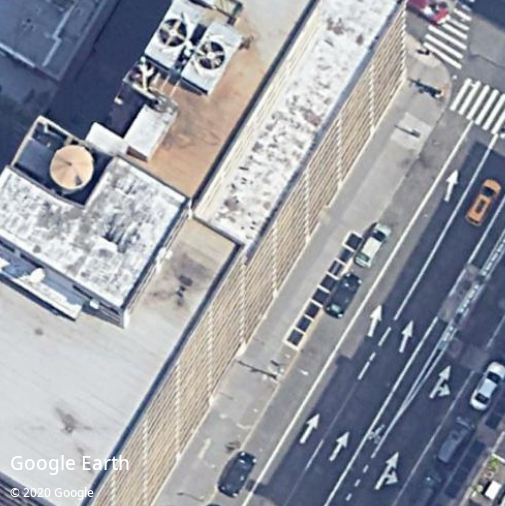Vent: (196, 41, 225, 70), (159, 19, 187, 47)
